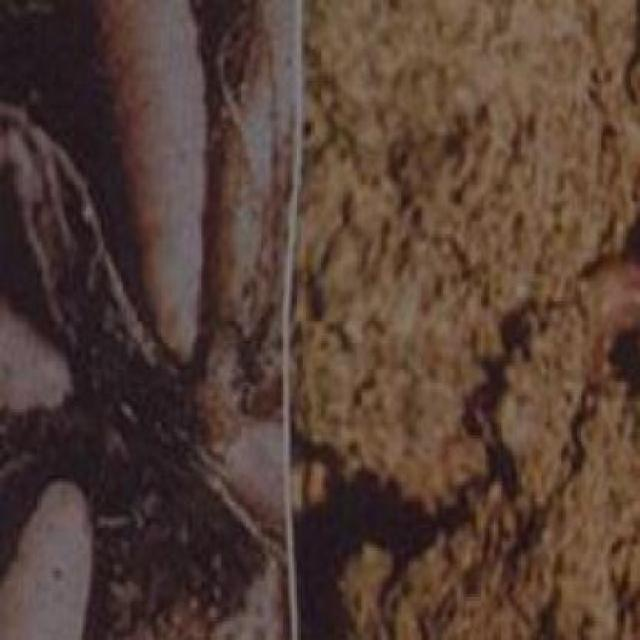whorl-maggot: (97, 0, 206, 368), (0, 480, 95, 637), (2, 292, 73, 406)
